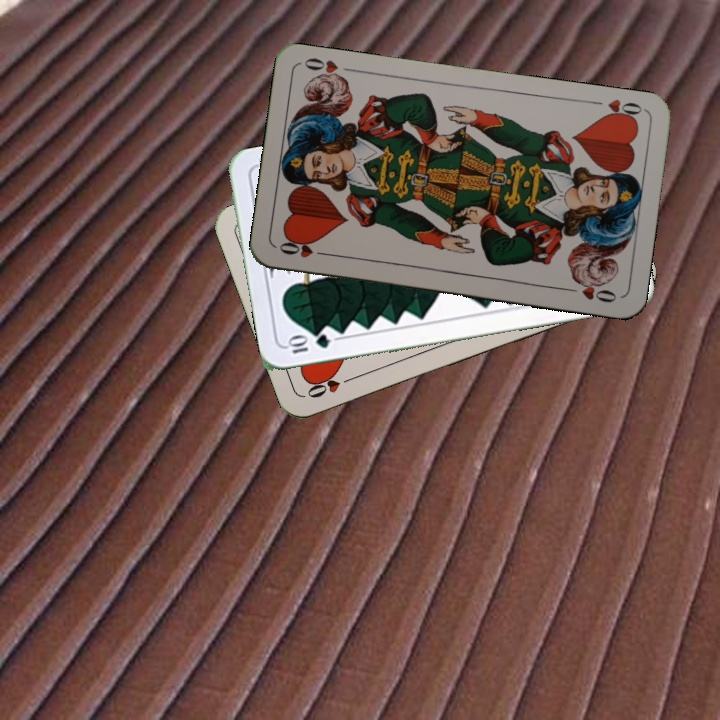G10: (284, 330, 333, 356)
HO: (587, 95, 645, 125), (303, 371, 359, 401), (275, 237, 333, 261)
